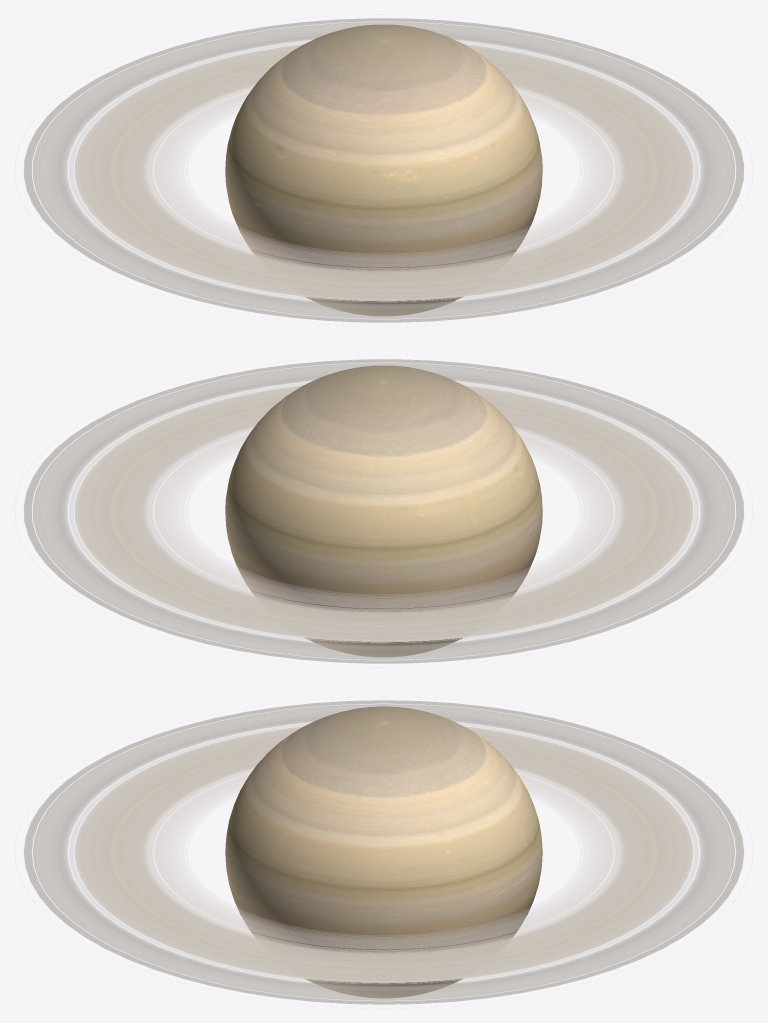
File: nasa-saturn.glb
The picture shows the model from 3 angles, top to bottom: view 1: azimuth 30°, elevation 25°; view 2: azimuth 150°, elevation 25°; view 3: azimuth 270°, elevation 25°; orthographic projection.
Visible parts, largest first — view 1: RingsTop, Saturn.001; view 2: RingsTop, Saturn.001; view 3: RingsTop, Saturn.001.
Boxes of the visible parts, x1,y1,x2,y2 form: RingsTop: (15, 18, 752, 322); Saturn.001: (225, 24, 542, 315); RingsTop: (15, 359, 752, 663); Saturn.001: (225, 365, 542, 656); RingsTop: (24, 700, 743, 1004); Saturn.001: (225, 706, 542, 998).
Size of the model in its own units: 2 by 0.774 by 2.
2 materials, 2 textured.
